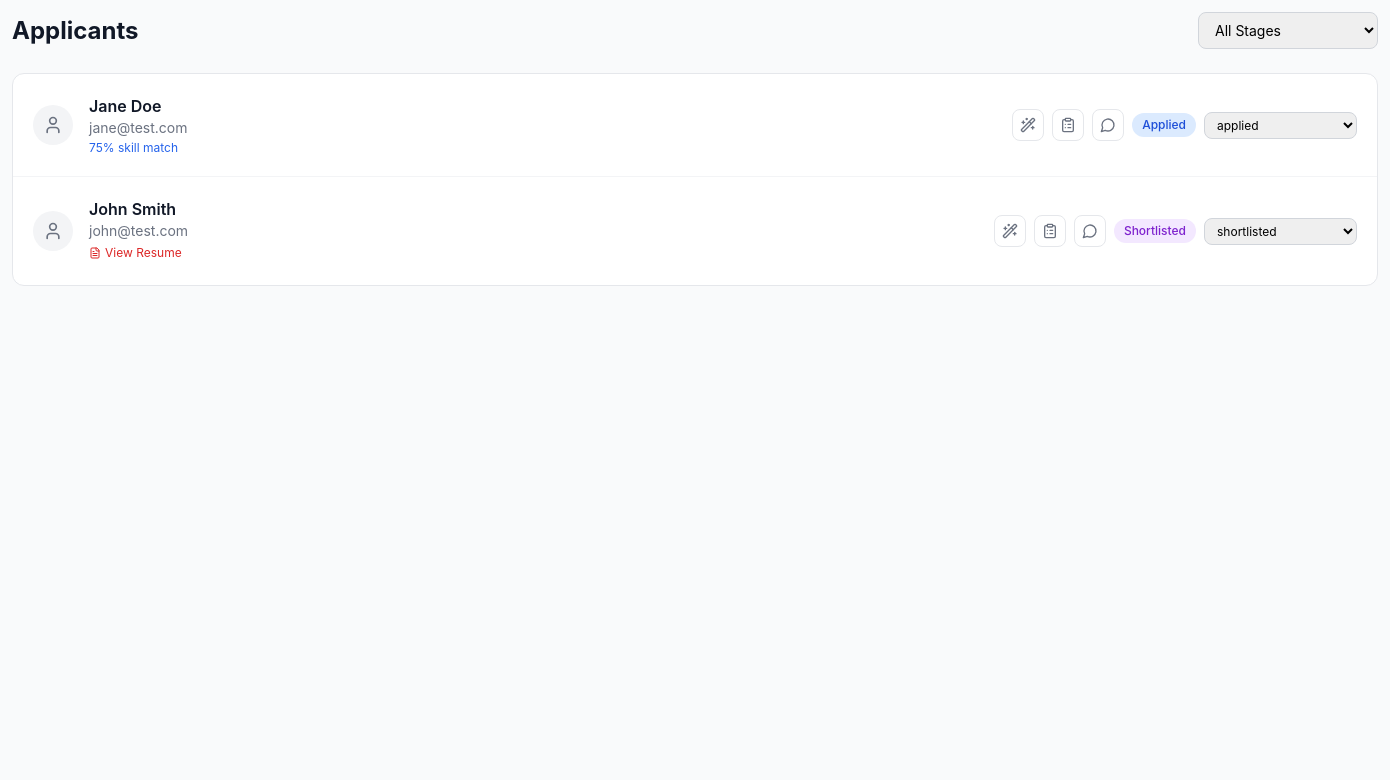
Test: ApplicantsPage — list rendering and interactions › QuestionPanel: closes when X button is clicked
Click the button named "Generate interview questions" next to "applied" at (1028,125), box top-left (1012, 109), bottom-right (1044, 141)
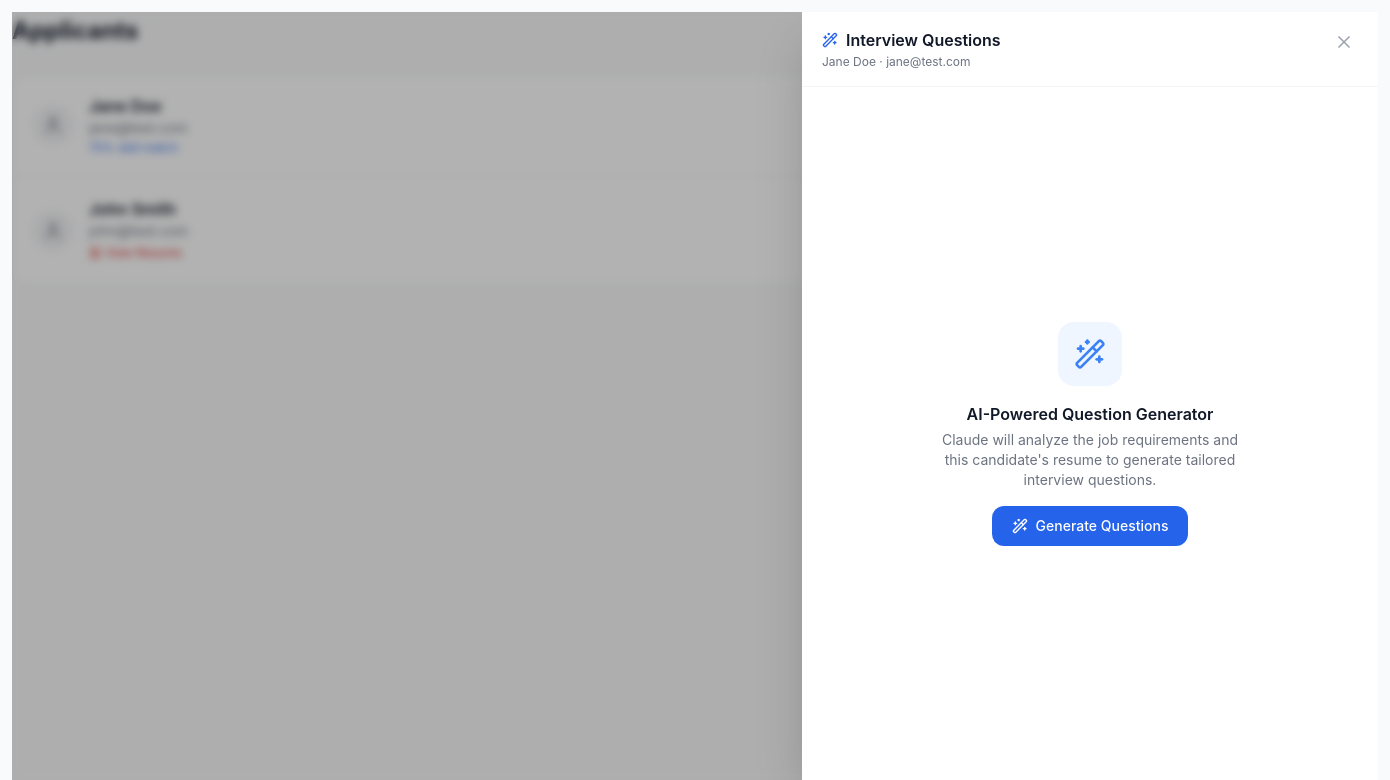
Now the text "Interview Questions" is shown, box top-left (822, 28), bottom-right (1001, 52)
# Close the panel
Click the 1st button at (1344,42), box top-left (1330, 28), bottom-right (1358, 56)
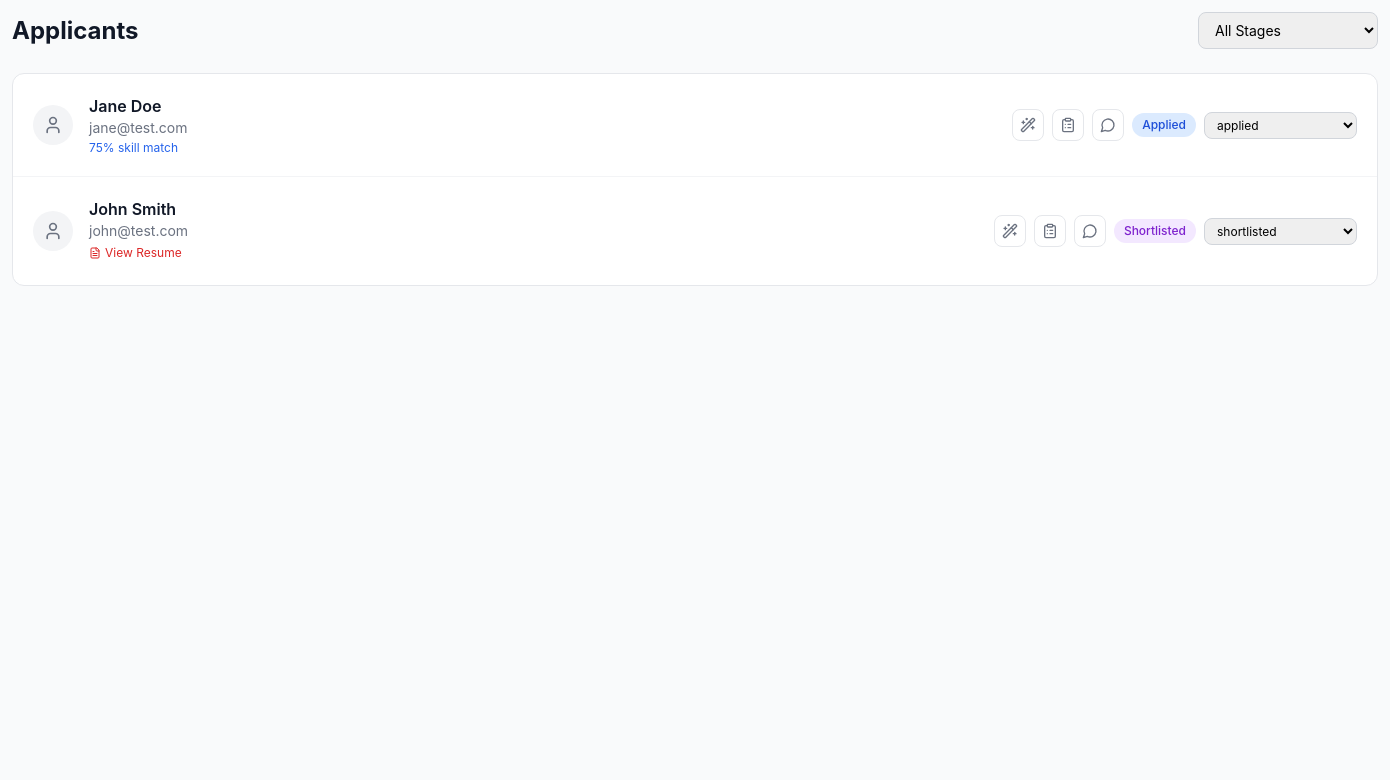
Now the text "Interview Questions" is gone
